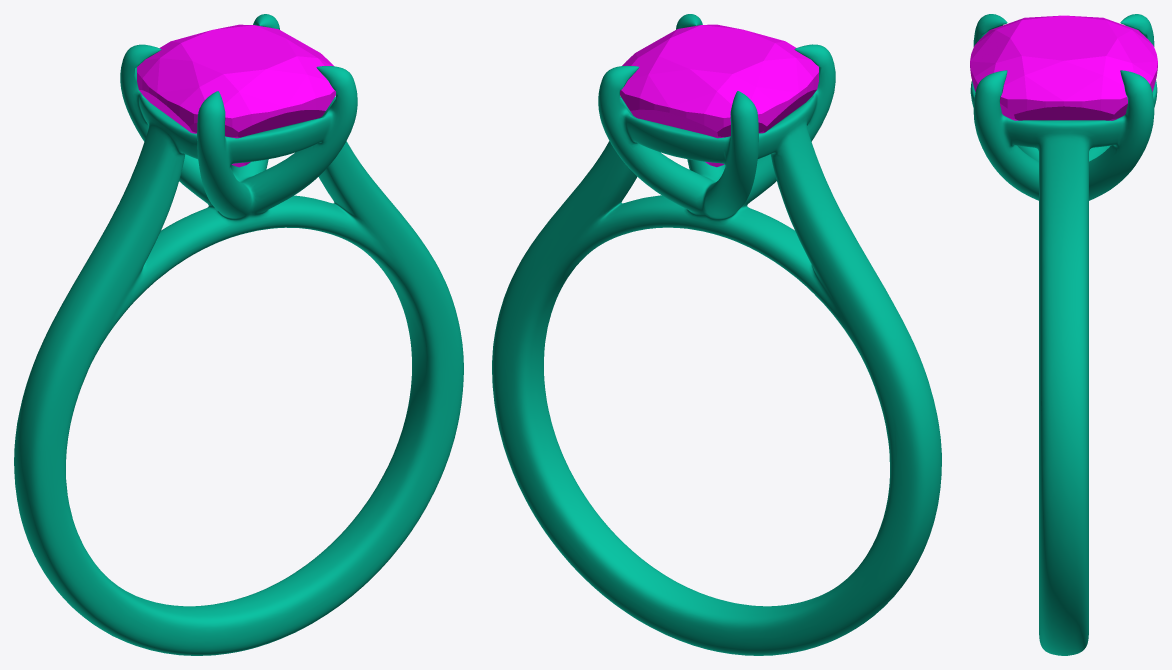
The model's file is BE12112_CU_200ct_RENDER.glb.
3 renders of one model, left to right at view 1: azimuth 30°, elevation 25°; view 2: azimuth 150°, elevation 25°; view 3: azimuth 270°, elevation 25°, orthographic.
Parts seen in each view (by area): view 1: Metal 01, CS_Diamond_Cushion; view 2: Metal 01, CS_Diamond_Cushion; view 3: Metal 01, CS_Diamond_Cushion.
Boxes of the visible parts, box(x1,y1,x2,y2) form: Metal 01: box(14, 14, 463, 655); CS_Diamond_Cushion: box(137, 24, 335, 167); Metal 01: box(492, 14, 941, 655); CS_Diamond_Cushion: box(620, 24, 818, 167); Metal 01: box(970, 14, 1157, 655); CS_Diamond_Cushion: box(970, 15, 1157, 120).
Bounding box in the file's own units: 20.13 × 26.17 × 7.5.
